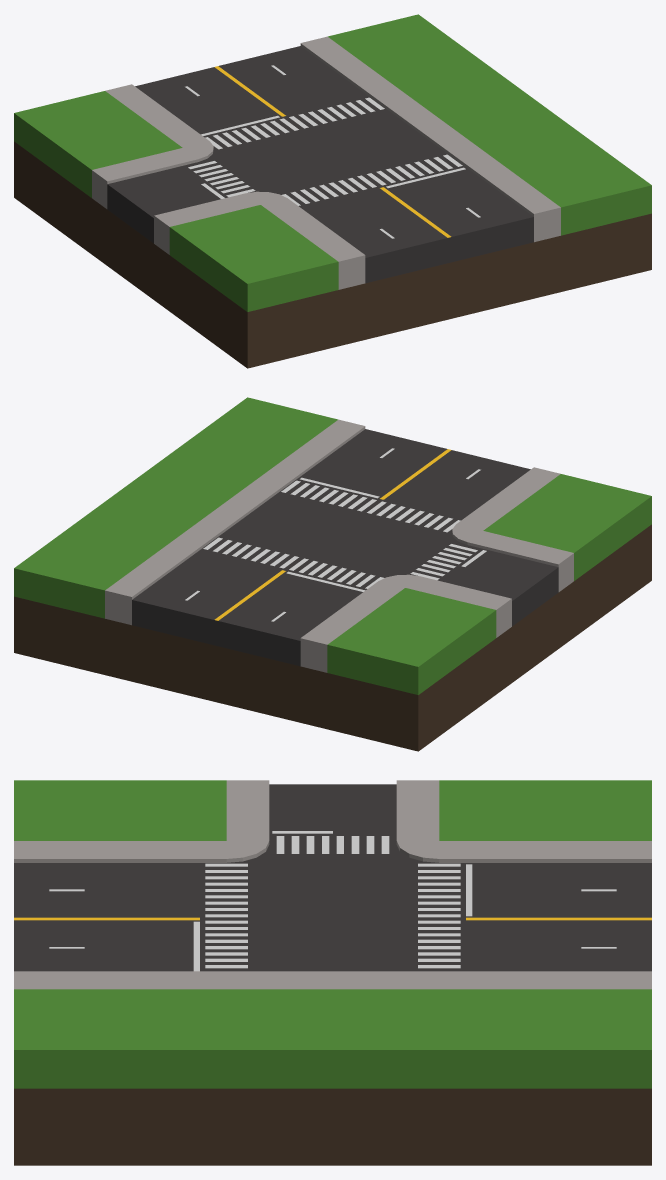
Rendered from tiles-tile-road-mainroad-intersection-t.glb.
The picture shows the model from 3 angles, top to bottom: view 1: azimuth 30°, elevation 25°; view 2: azimuth 150°, elevation 25°; view 3: azimuth 270°, elevation 25°; orthographic projection. The views are drawn at different scales.
Parts seen in each view (by area): view 1: tile-road-mainroad-intersection-t; view 2: tile-road-mainroad-intersection-t; view 3: tile-road-mainroad-intersection-t.
Boxes of the visible parts, x1=… form: tile-road-mainroad-intersection-t: x1=14, y1=14, x2=651, y2=368; tile-road-mainroad-intersection-t: x1=14, y1=397, x2=651, y2=751; tile-road-mainroad-intersection-t: x1=14, y1=780, x2=651, y2=1165.
Size of the model in its own units: 30 by 6 by 30.
